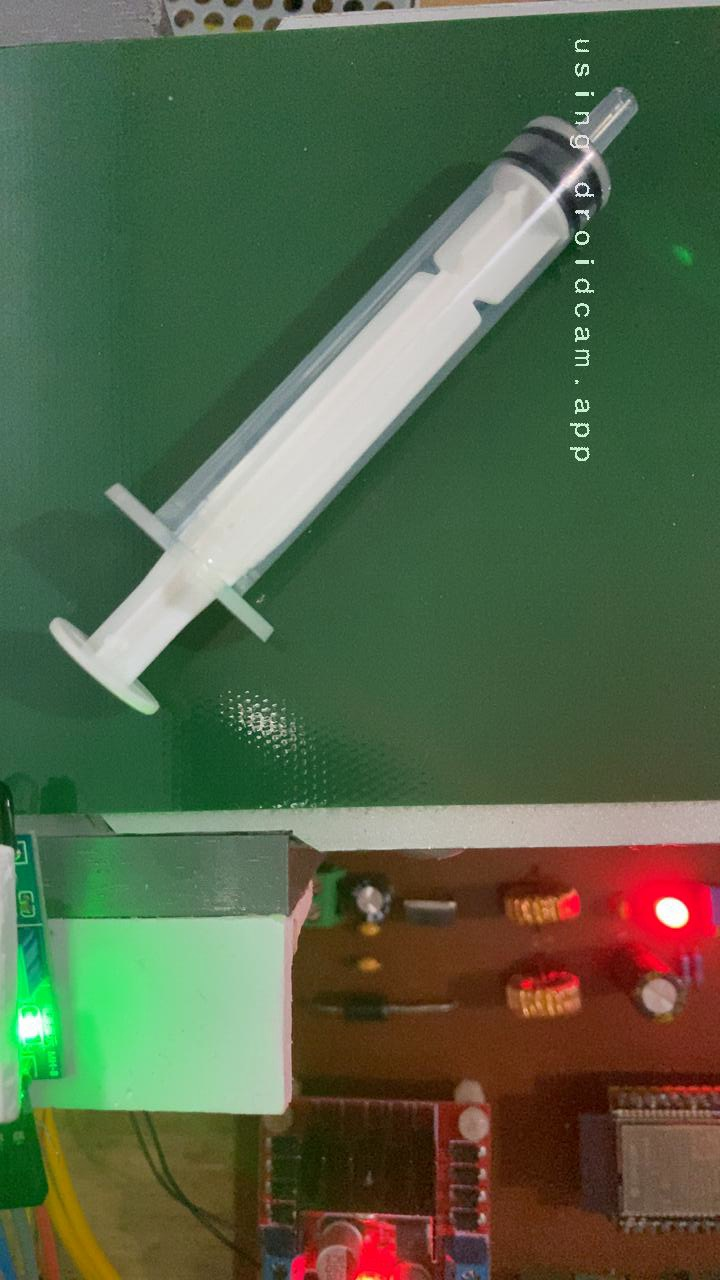syringe: (43, 80, 643, 711)
